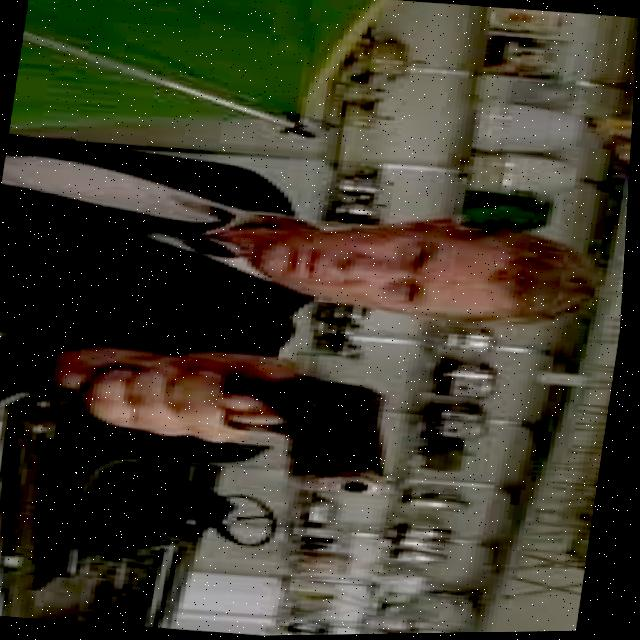pistol: (203, 365, 420, 503)
